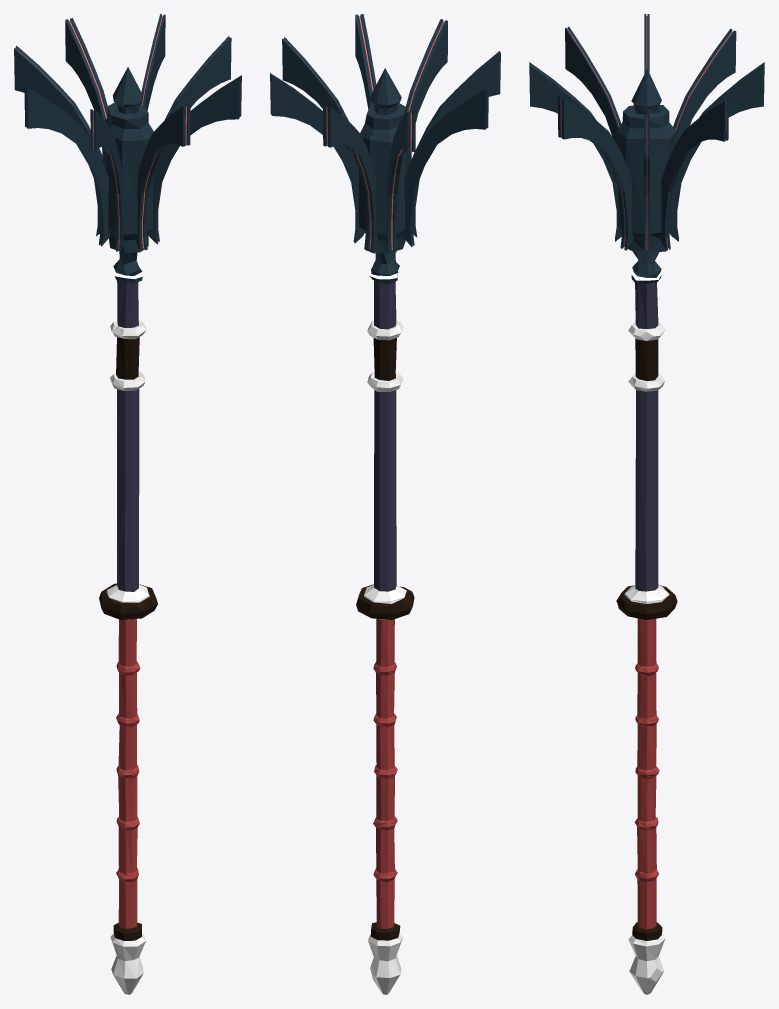
File: SFFA_Weapon_Mace_Gold_006.fbx
3 views of the same model, side by side, from view 1: azimuth 30°, elevation 25°; view 2: azimuth 150°, elevation 25°; view 3: azimuth 270°, elevation 25° (orthographic).
Parts seen in each view (by area): view 1: SFFA_Weapon_Mace_Gold_006; view 2: SFFA_Weapon_Mace_Gold_006; view 3: SFFA_Weapon_Mace_Gold_006.
Boxes of the visible parts, x1,y1,x2,y2 form: SFFA_Weapon_Mace_Gold_006: (14, 14, 241, 994); SFFA_Weapon_Mace_Gold_006: (270, 14, 500, 994); SFFA_Weapon_Mace_Gold_006: (529, 14, 764, 994).
Bounding box in the file's own units: 32.65 × 142 × 32.65.
